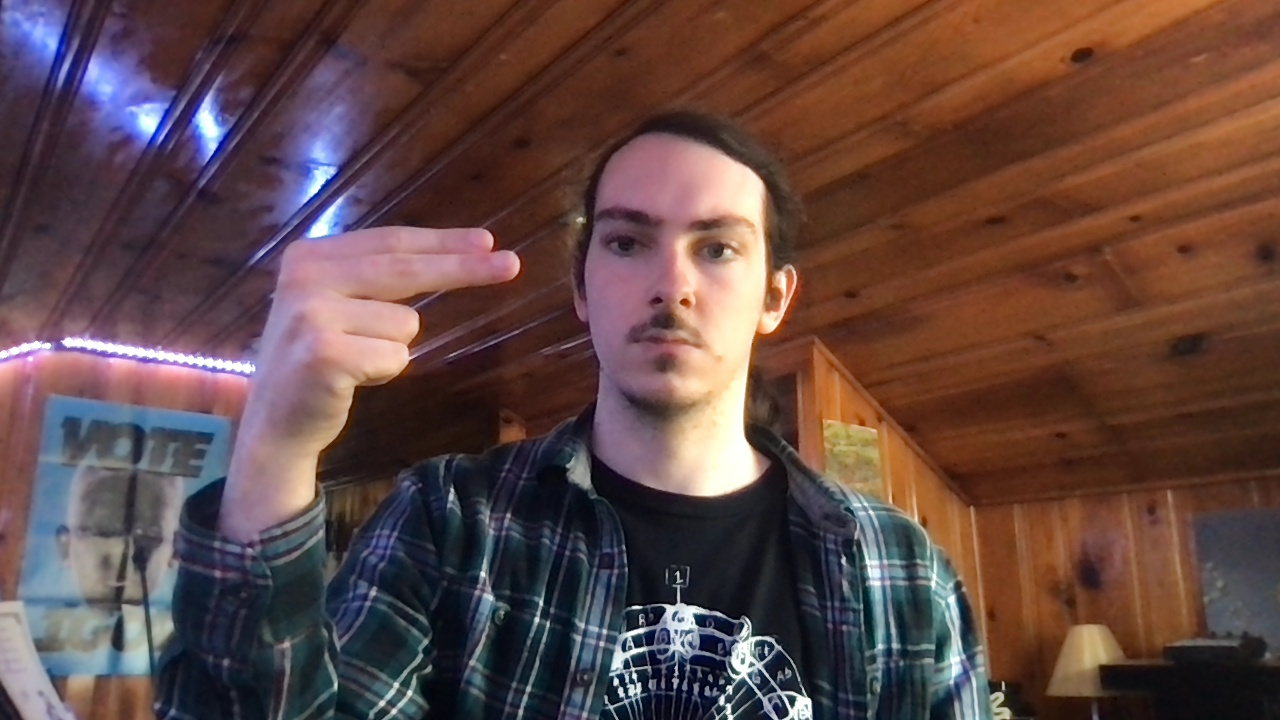h: (248, 223, 522, 453)
